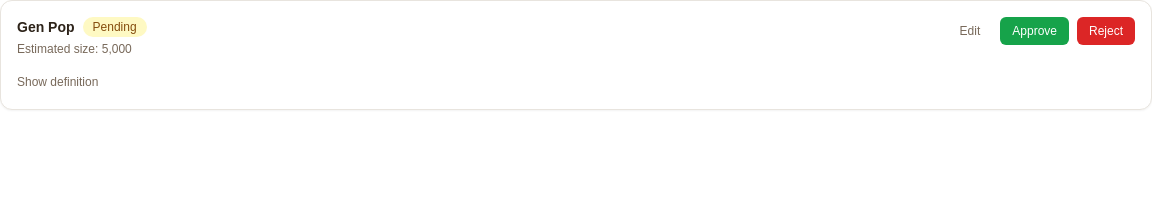
Test: SegmentCard › definition JSON preview › collapses JSON when toggled again
The image size is (1152, 223).
Click the button "Show definition" at (58, 82), box [17,74,98,90]
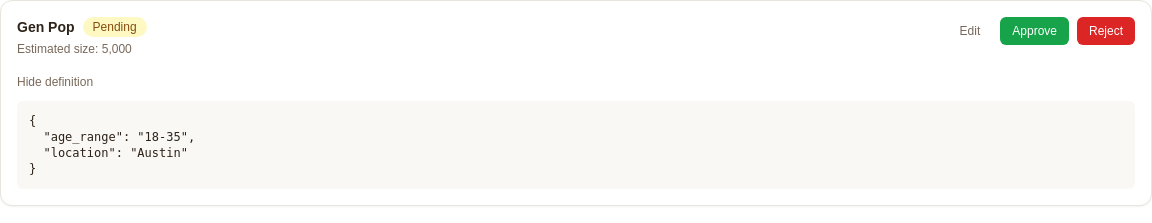
Click the button "Hide definition" at (55, 82), box [17,74,93,90]
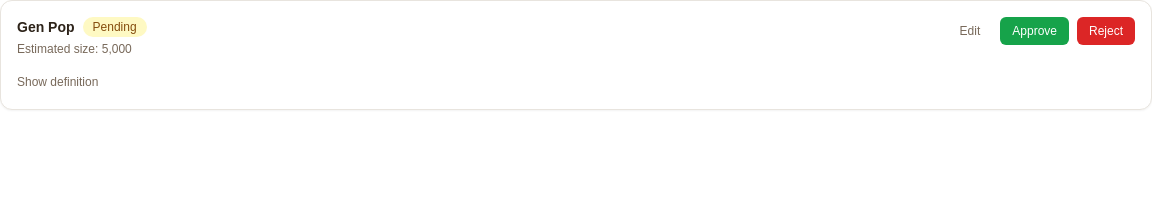
expect the text "age_range" is gone: met
